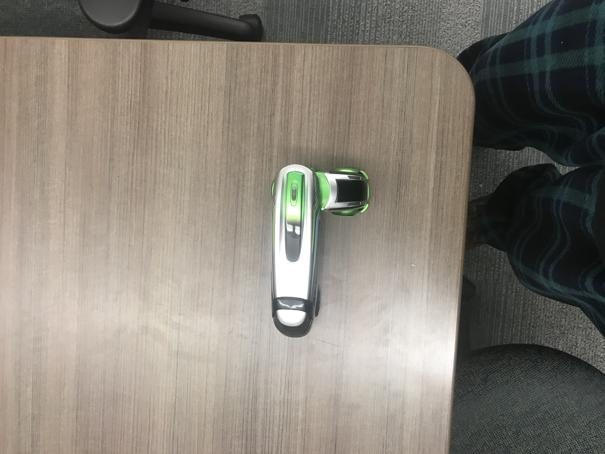Freewheel: (269, 162, 372, 339)
